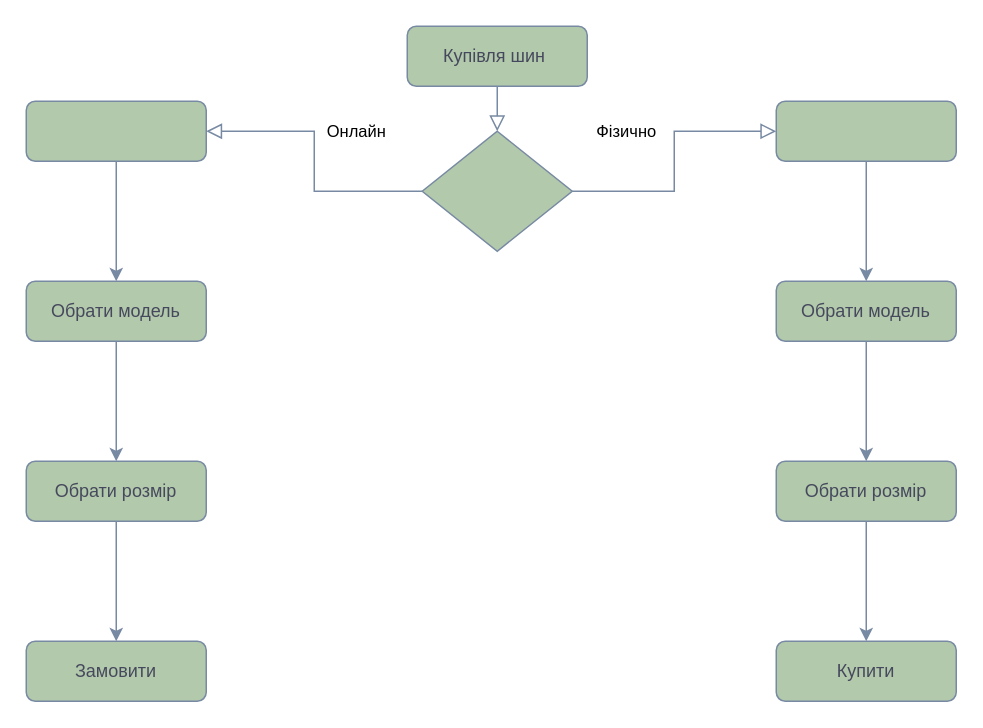
Some shapes in this 983 by 728 pixel diagram are drawn without their labels. The shapes that lost their labels are listed below. From the top down, each one's centre as x and y in pixels, then its label:
the point at 115,130: Відкрити сайт
the point at 865,130: Прийти в магазин
the point at 496,190: Спосіб покупки
